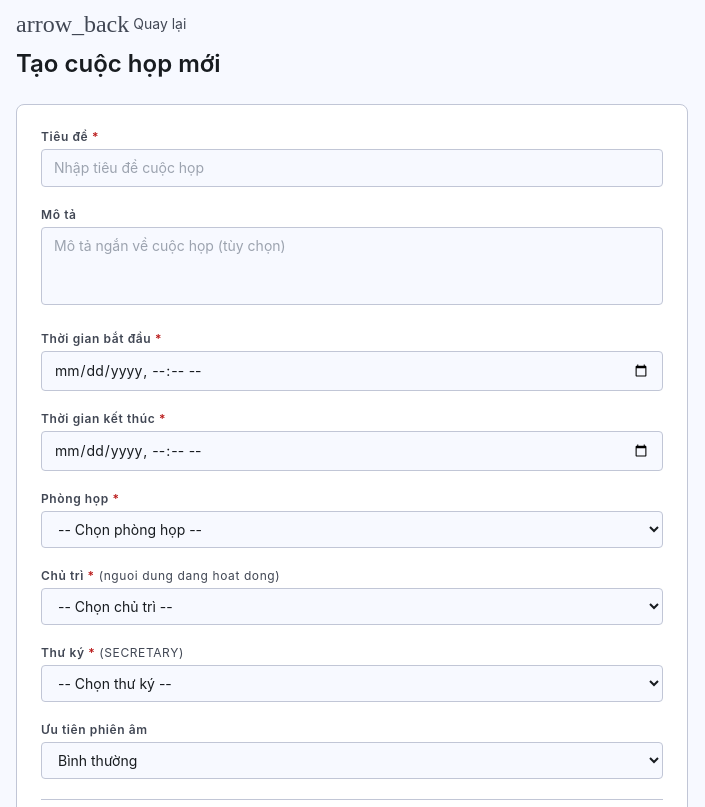
Test: MeetingFormPage — room conflict display › shows room conflict warning when room is already booked
# Set valid start and end times
Step 1. Type "2030-12-01T10:00" into the field labelled "Thời gian bắt đầu *" → (352, 371), box [41,351,663,391]
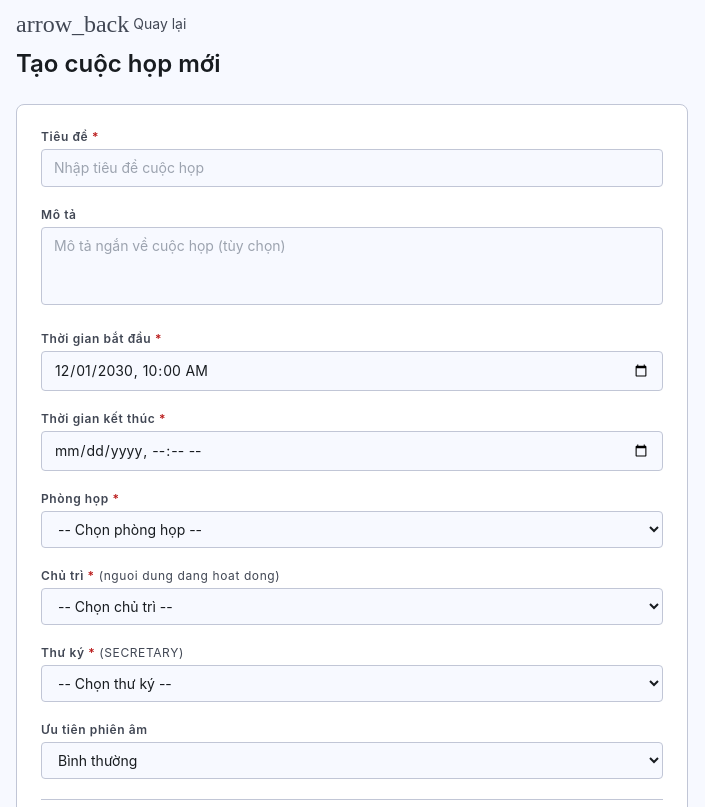
Step 2. Type "2030-12-01T11:00" into the field labelled "Thời gian kết thúc *" → (352, 451), box [41,431,663,471]
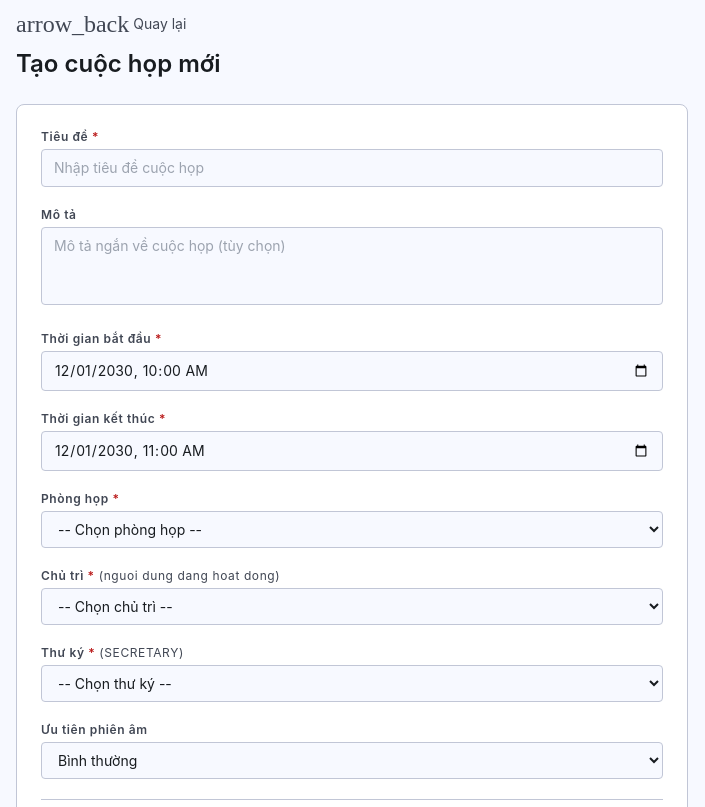
# Select room — triggers availability check
Step 3. Select "Phòng A (sức chứa: 10) — IT" in the dropdown labelled "Phòng họp *" → (352, 530), box [41,511,663,548]
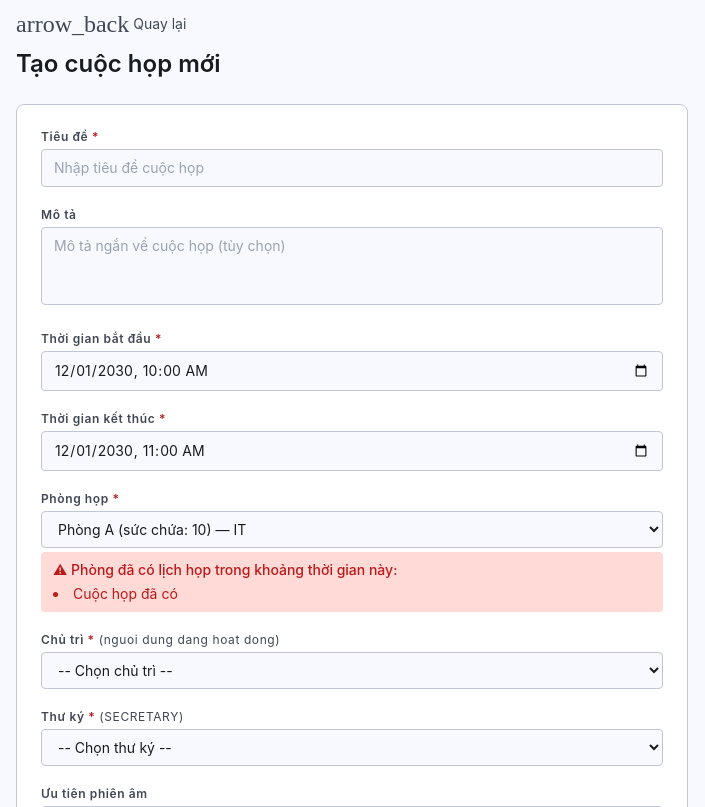
Check: the message "⚠ Phòng đã có lịch họp trong khoảng thời gian này: Cuộc họp đã có" is shown, box [41,552,663,612]
Check: the list item "Cuộc họp đã có" is shown, box [73,585,178,602]
